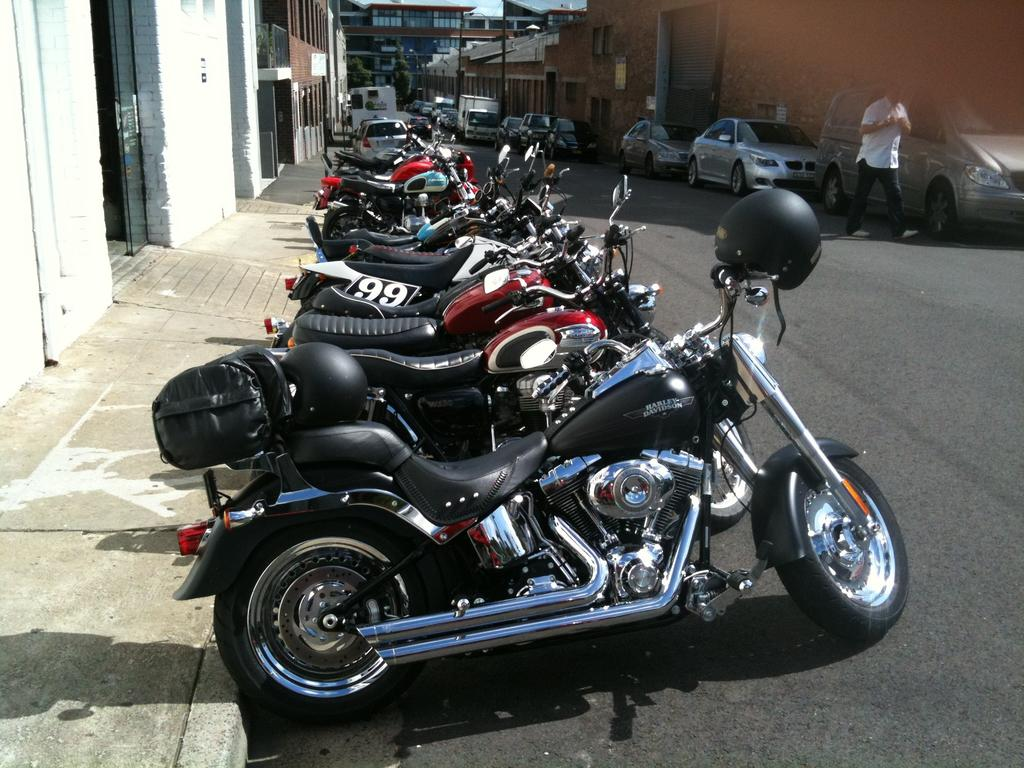helmet: (714, 188, 822, 291), (273, 342, 368, 427)
